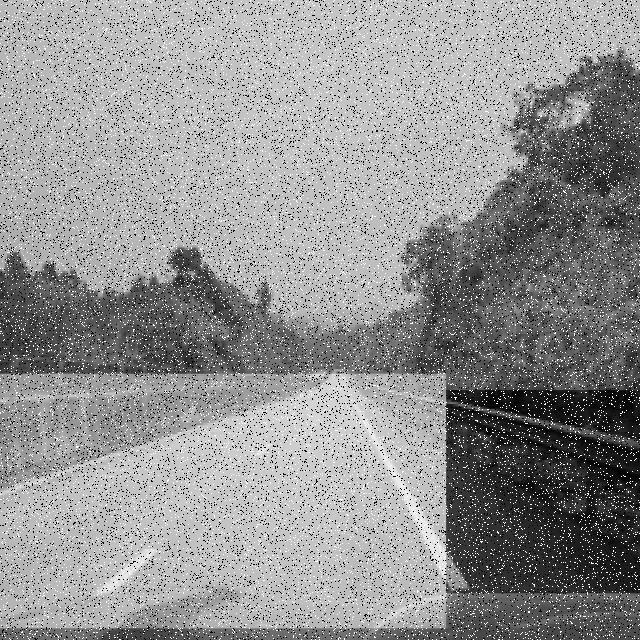clear-road: (0, 375, 446, 619), (353, 391, 640, 593)
